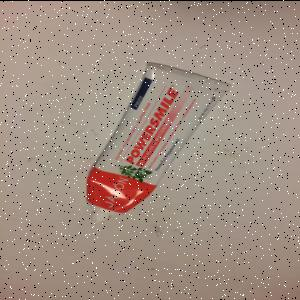Trash: (86, 62, 232, 224)
